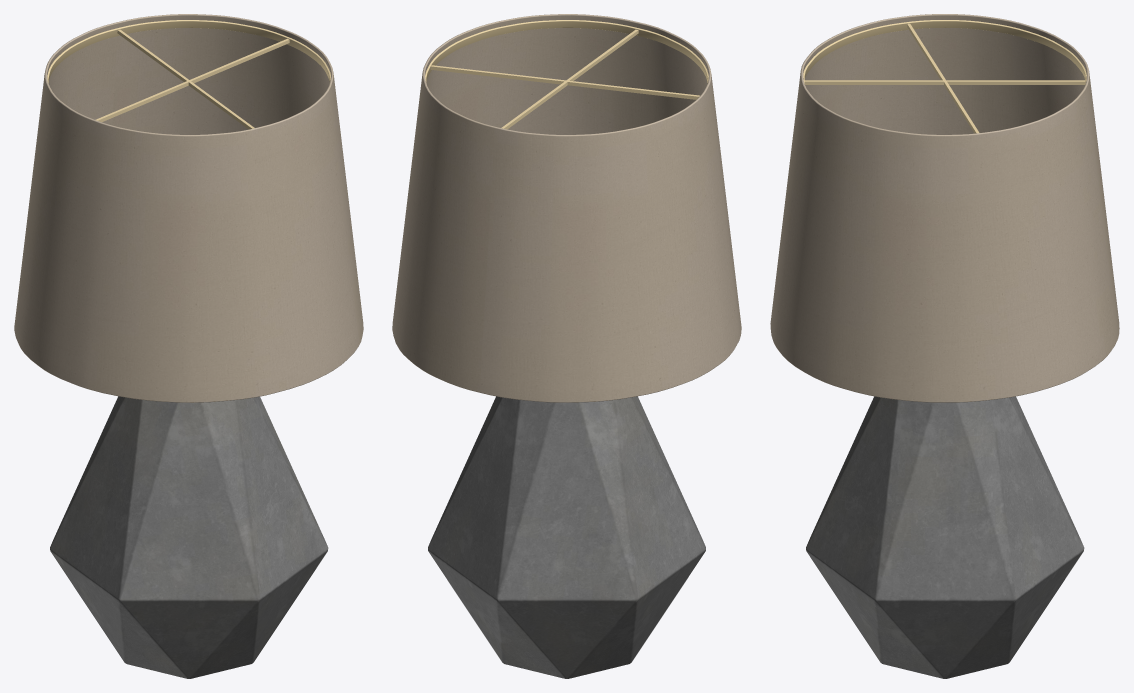
The model's file is lamp_B07374SBFM.glb.
3 views of the same model, side by side, from view 1: azimuth 30°, elevation 25°; view 2: azimuth 150°, elevation 25°; view 3: azimuth 270°, elevation 25° (orthographic).
Visible parts, largest first — view 1: RootNode; view 2: RootNode; view 3: RootNode.
Boxes of the visible parts, x1,y1,x2,y2 form: RootNode: (14, 14, 363, 678); RootNode: (392, 14, 741, 678); RootNode: (770, 14, 1119, 678).
Size of the model in its own units: 0.2757 by 0.5009 by 0.2759.
Materials: 1 (1 with a texture image).
